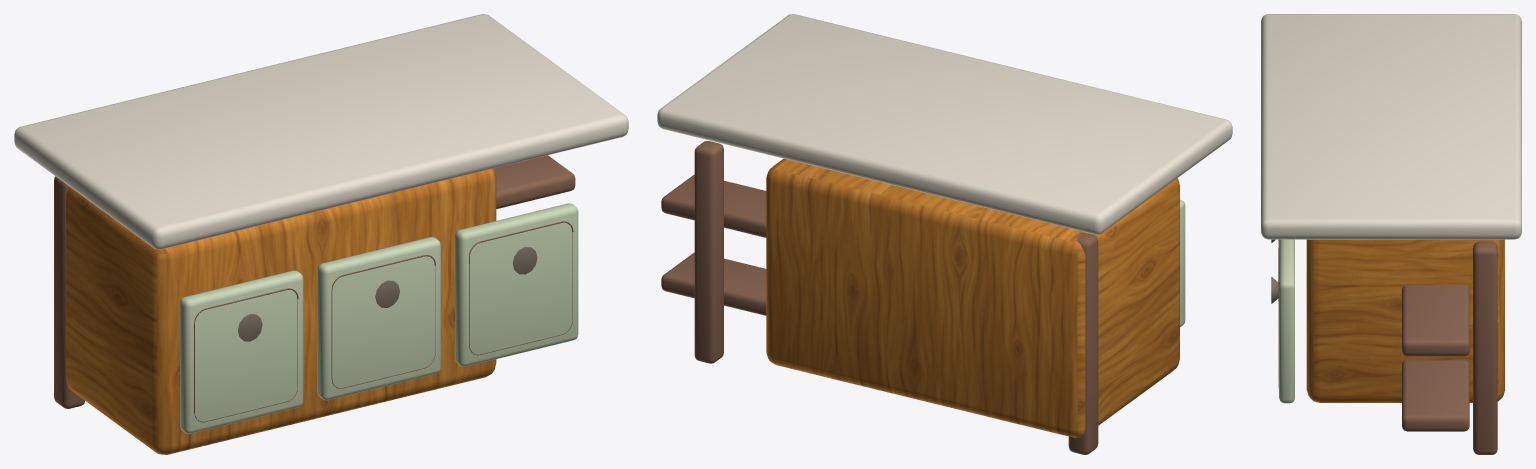
Rendered from kitchen-island.glb.
The picture shows the model from 3 angles, left to right: view 1: azimuth 30°, elevation 25°; view 2: azimuth 150°, elevation 25°; view 3: azimuth 270°, elevation 25°; orthographic projection. The views are drawn at different scales.
Parts seen in each view (by area): view 1: kitchen-island; view 2: kitchen-island; view 3: kitchen-island.
Part boxes in pixels (x1,y1,x2,y2): kitchen-island: [14, 14, 628, 454]; kitchen-island: [657, 14, 1232, 454]; kitchen-island: [1261, 14, 1521, 454].
Size of the model in its own units: 1.8 by 0.94 by 0.9.
6 materials, 1 textured.
